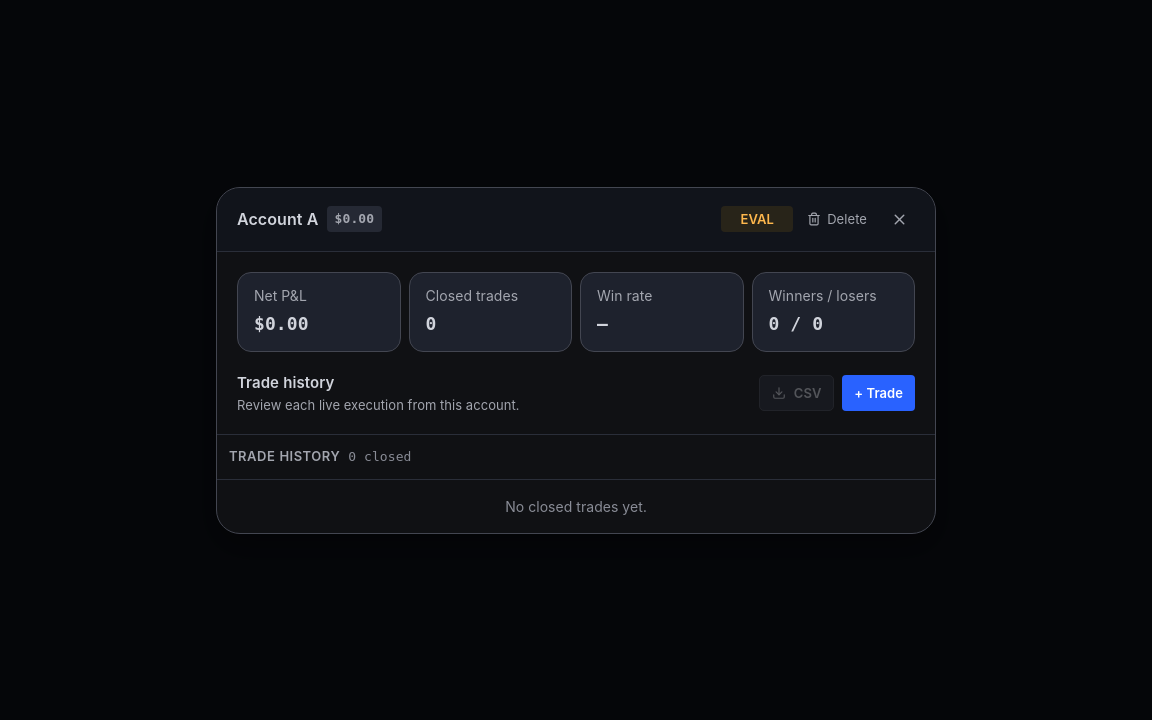
Test: LiveJournalDetail account details › shows account metrics, trade history, and opens the live trade review from + Trade
Expected: the text "Net P&L" is shown, 254,286 -> 307,304
Expected: the heading "Trade history" is shown, 237,372 -> 334,392
Click the button "+ Trade". click: coordinates (879, 392)
box: 842,374 -> 915,410
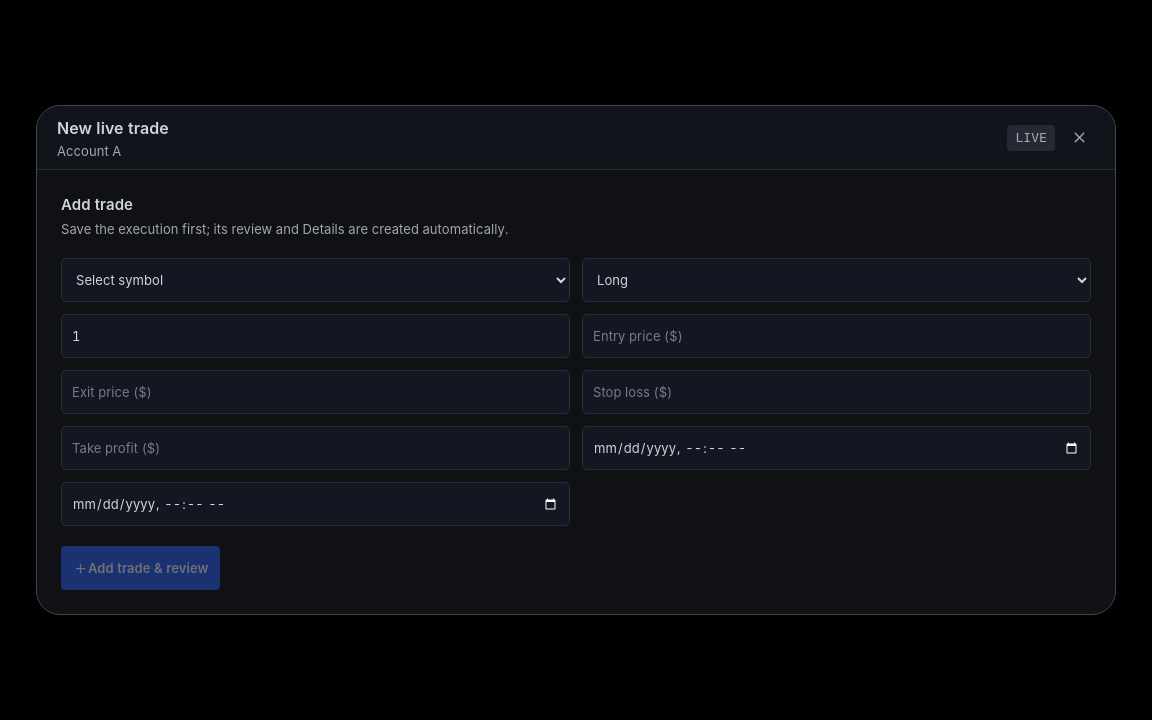
Result: the heading "New live trade" is shown at 57,118 -> 169,138
